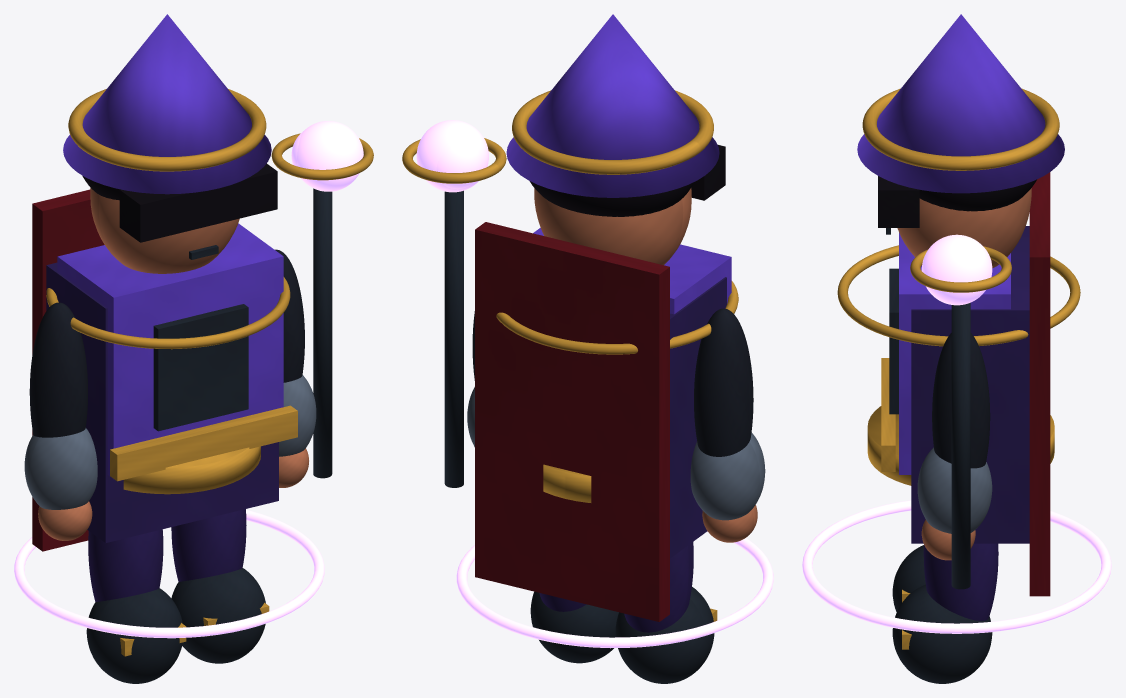
Rendered from Foundation.glb.
3 renders of one model, left to right at view 1: azimuth 30°, elevation 25°; view 2: azimuth 150°, elevation 25°; view 3: azimuth 270°, elevation 25°, orthographic. The views are drawn at different scales.
Visible parts, largest first — view 1: ChestPlate, WizardHat, LayeredRobe, ChestInset, Arm, HairFringe, MageSash, Boot, Boot.001, Cape, Staff, MagicCircle (+13 smaller); view 2: Cape, WizardHat, Arm, LayeredRobe, Head, Staff, MagicCircle, Gauntlet, Boot, HatBand, Boot.001, ChestPlate (+9 smaller); view 3: WizardHat, LayeredRobe, Cape, MagicCircle, Staff, Boot.001, Head, ChestPlate, Arm.001, HatBand, Leg.001, ShoulderCrest (+10 smaller).
Part boxes in pixels (bbox=[...]): ChestPlate: bbox=[57, 223, 283, 478]; WizardHat: bbox=[63, 14, 271, 194]; LayeredRobe: bbox=[46, 262, 278, 542]; ChestInset: bbox=[153, 304, 248, 431]; Arm: bbox=[29, 302, 87, 437]; HairFringe: bbox=[119, 163, 277, 242]; MageSash: bbox=[110, 405, 297, 481]; Boot: bbox=[86, 588, 182, 683]; Boot.001: bbox=[171, 568, 265, 663]; Cape: bbox=[32, 189, 104, 551]; Staff: bbox=[313, 188, 332, 478]; MagicCircle: bbox=[14, 509, 324, 638]; Cape: bbox=[475, 222, 669, 621]; WizardHat: bbox=[506, 14, 719, 197]; Arm: bbox=[694, 308, 753, 456]; LayeredRobe: bbox=[670, 277, 726, 558]; Head: bbox=[534, 188, 691, 265]; Staff: bbox=[444, 190, 463, 487]; MagicCircle: bbox=[456, 531, 773, 648]; Gauntlet: bbox=[690, 432, 765, 520]; Boot: bbox=[615, 587, 714, 683]; HatBand: bbox=[512, 90, 713, 174]; Boot.001: bbox=[530, 591, 618, 663]; ChestPlate: bbox=[533, 228, 731, 314]; WizardHat: bbox=[857, 14, 1064, 193]; LayeredRobe: bbox=[911, 226, 1029, 543]; Cape: bbox=[1029, 172, 1050, 596]; MagicCircle: bbox=[802, 500, 1111, 633]; Staff: bbox=[951, 302, 970, 589]; Boot.001: bbox=[892, 584, 992, 683]; Head: bbox=[897, 188, 1031, 268]; ChestPlate: bbox=[899, 232, 1010, 474]; Arm.001: bbox=[932, 333, 990, 468]; HatBand: bbox=[862, 88, 1059, 170]; Leg.001: bbox=[923, 543, 998, 620]; ShoulderCrest: bbox=[837, 245, 1080, 346].
Size of the model in its own units: 1.89 by 3.43 by 1.49.
12 materials, 9 textured.
